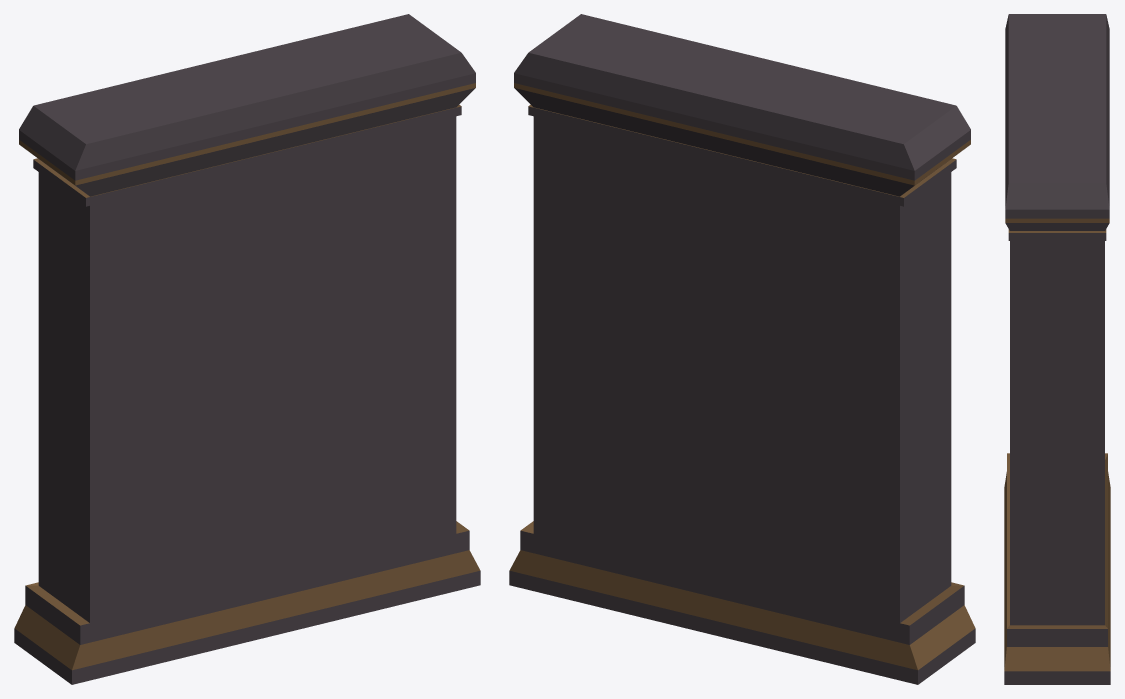
File: cemm1.fbx
The picture shows the model from 3 angles, left to right: view 1: azimuth 30°, elevation 25°; view 2: azimuth 150°, elevation 25°; view 3: azimuth 270°, elevation 25°; orthographic projection. The views are drawn at different scales.
Visible parts, largest first — view 1: Cube; view 2: Cube; view 3: Cube.
Part boxes in pixels (x1=…): Cube: x1=14, y1=14, x2=480, y2=684; Cube: x1=509, y1=14, x2=975, y2=684; Cube: x1=1004, y1=14, x2=1110, y2=684.
Size of the model in its own units: 916 by 1145 by 223.
